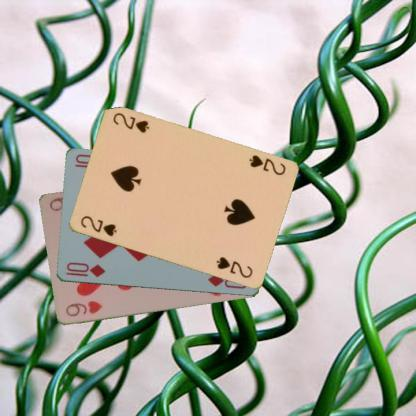10d: (63, 260, 106, 278)
2s: (246, 152, 287, 177), (78, 213, 118, 238)
9h: (63, 298, 103, 318)
